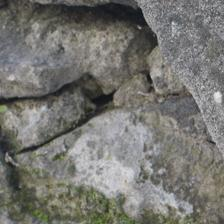Crack: (11, 10, 95, 102), (87, 0, 183, 65), (122, 28, 186, 63)
